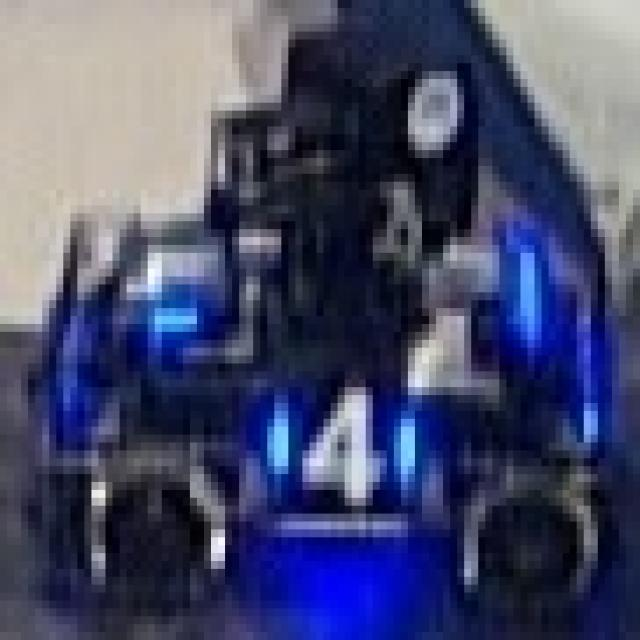B4: (222, 348, 426, 522), (106, 182, 232, 340)
